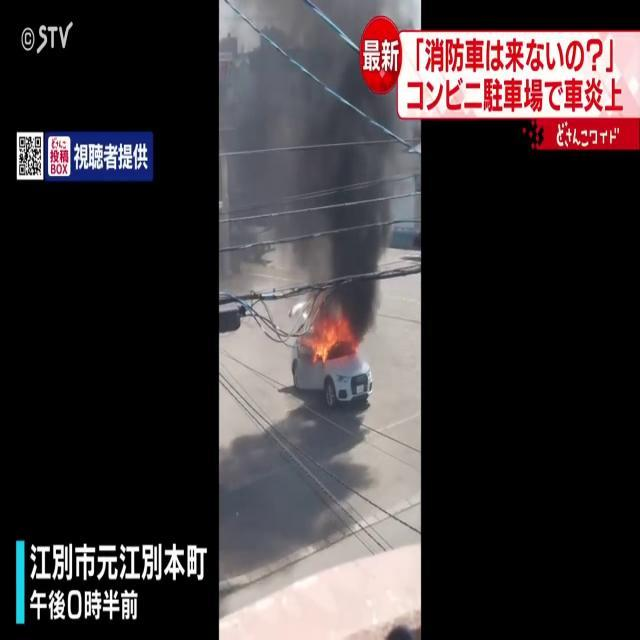Fire: (304, 314, 354, 364)
Smoke: (220, 1, 412, 323)
